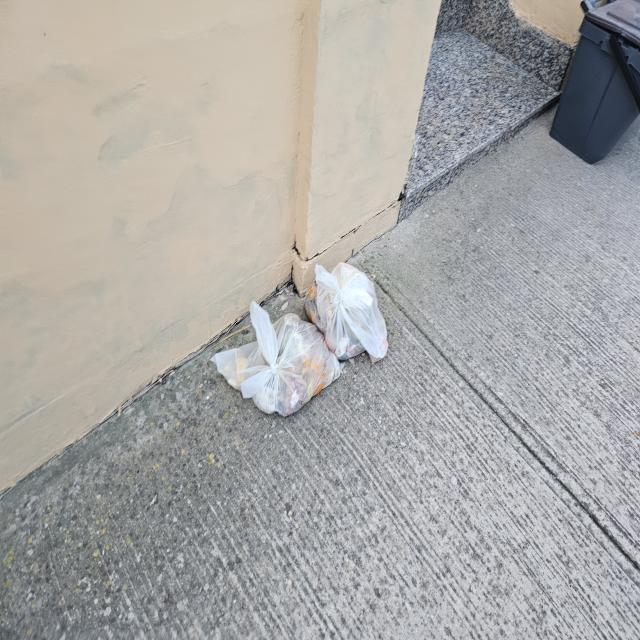white_bag: (208, 296, 345, 422), (302, 257, 393, 368)
